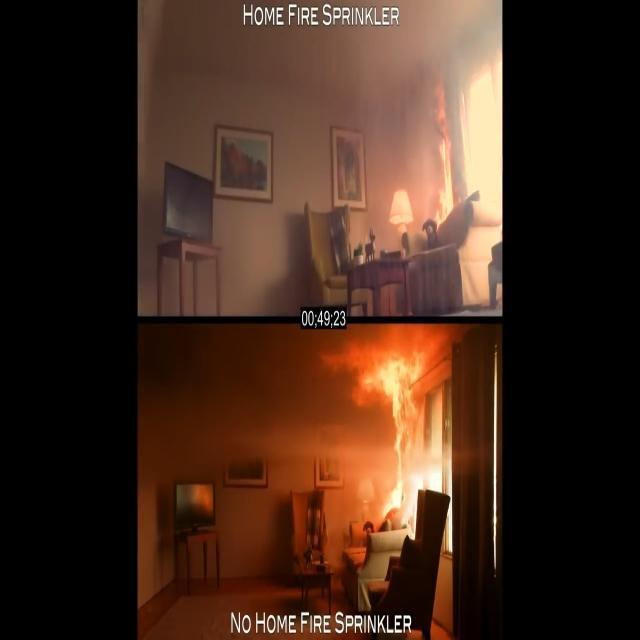Fire: (316, 310, 469, 546)
